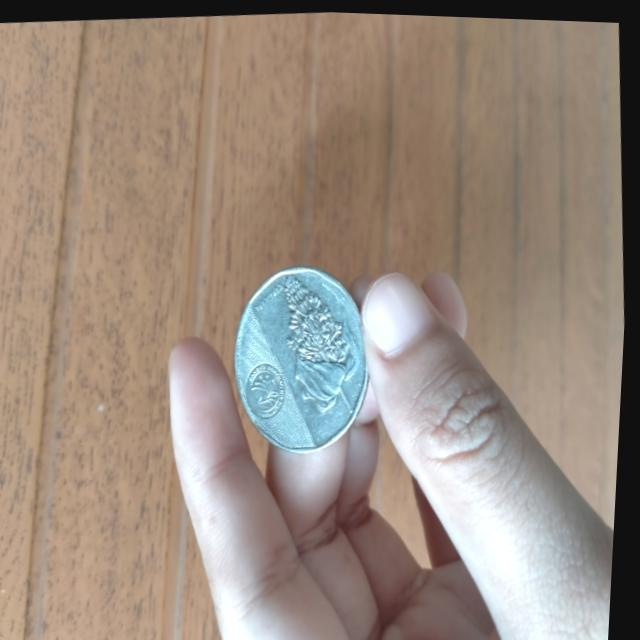10_New_Back: (271, 260, 378, 421)
